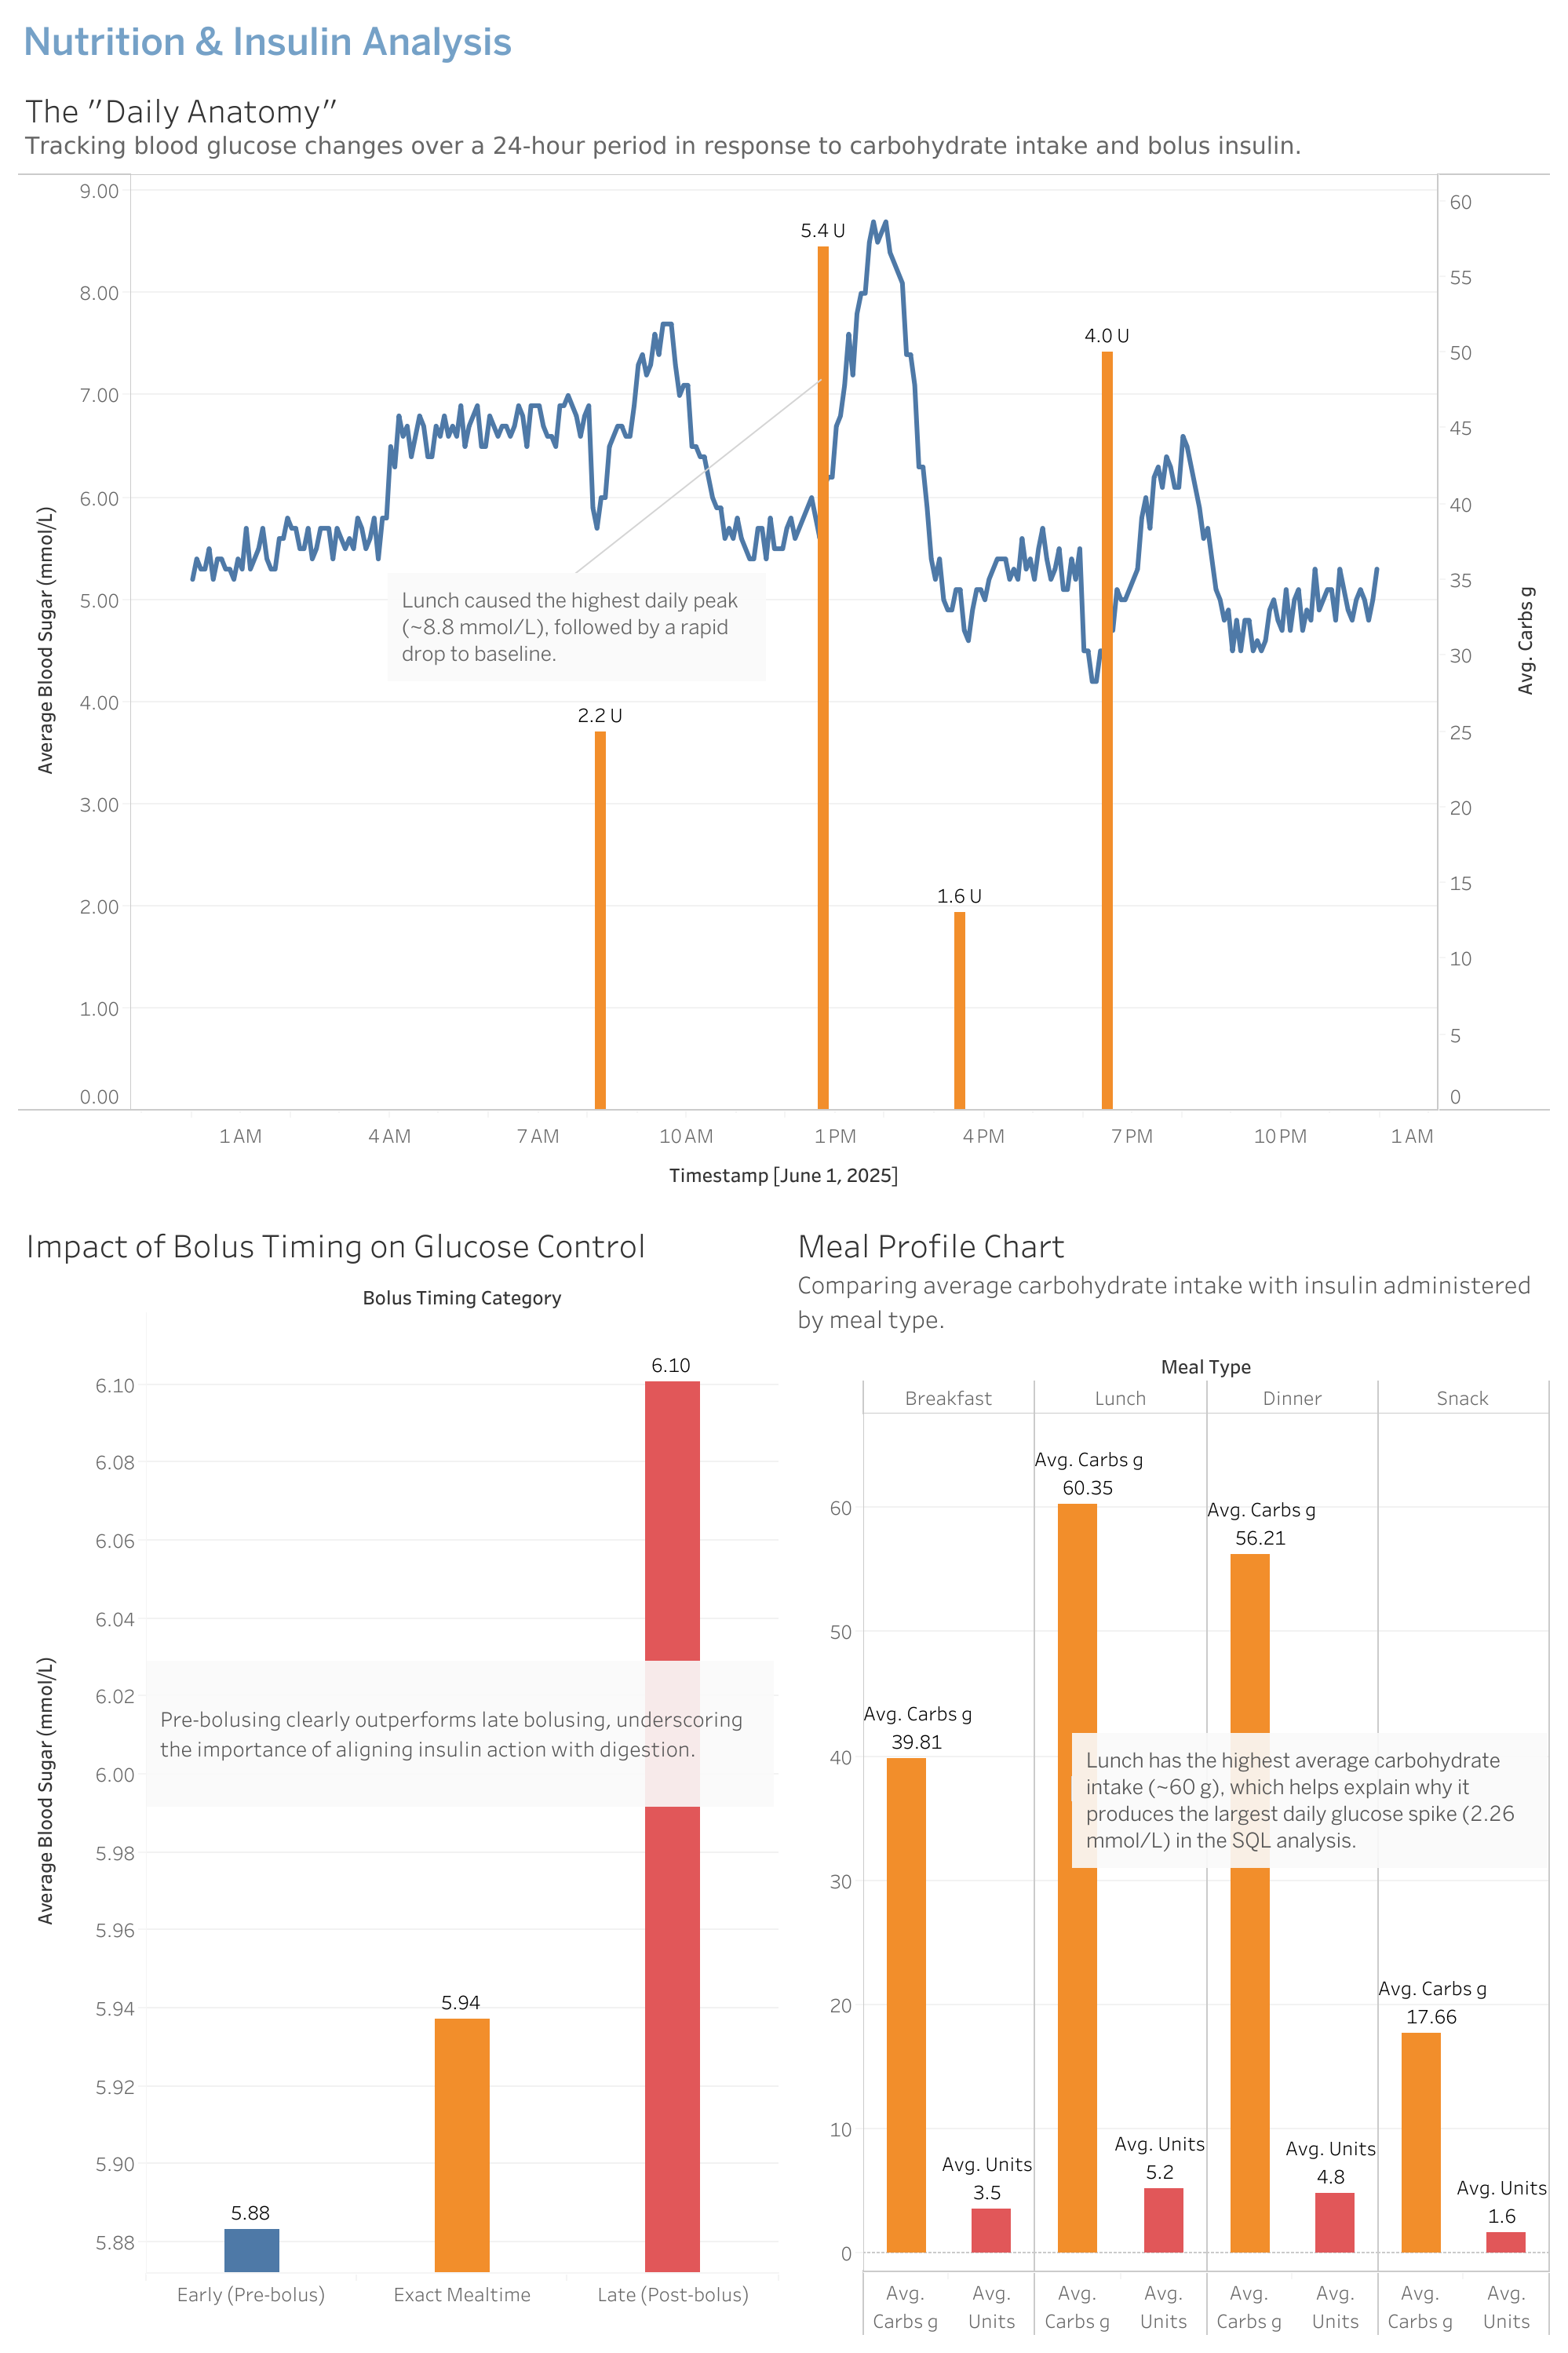

This screenshot's page, from the dashboard's own definition file:
{"tool":"tableau","page":{"name":"Nutrition & Insulin Analysis","canvas":[1000,1500],"ordinal":1},"visuals":[{"type":"title","box":[8,8,984,37]},{"type":"worksheet","title":"The \"Daily Anatomy\"","mark":"Automatic","rows":["Blood_Sugar","Carbs_g"],"cols":["Timestamp"],"box":[8,45,984,723.4]},{"type":"worksheet","title":"Impact of Bolus Timing on Glucose Control","mark":"Automatic","rows":["Blood_Sugar"],"cols":["Calculation_0929070236987394"],"box":[8,768.4,492,723.6]},{"type":"worksheet","title":"Meal Profile Chart","mark":"Automatic","cols":["Meal_Type"],"box":[500,768.4,492,723.6]}]}

Visuals, with their boxes in screenshot pixels (x1, y1, x2, y2), scaled from the page's 1000x1500 canvas onto the 1568x2353 screenshot:
title: Rect(13, 13, 1555, 71)
"The "Daily Anatomy"" worksheet: Rect(13, 71, 1555, 1206)
"Impact of Bolus Timing on Glucose Control" worksheet: Rect(13, 1206, 784, 2340)
"Meal Profile Chart" worksheet: Rect(784, 1206, 1555, 2340)
